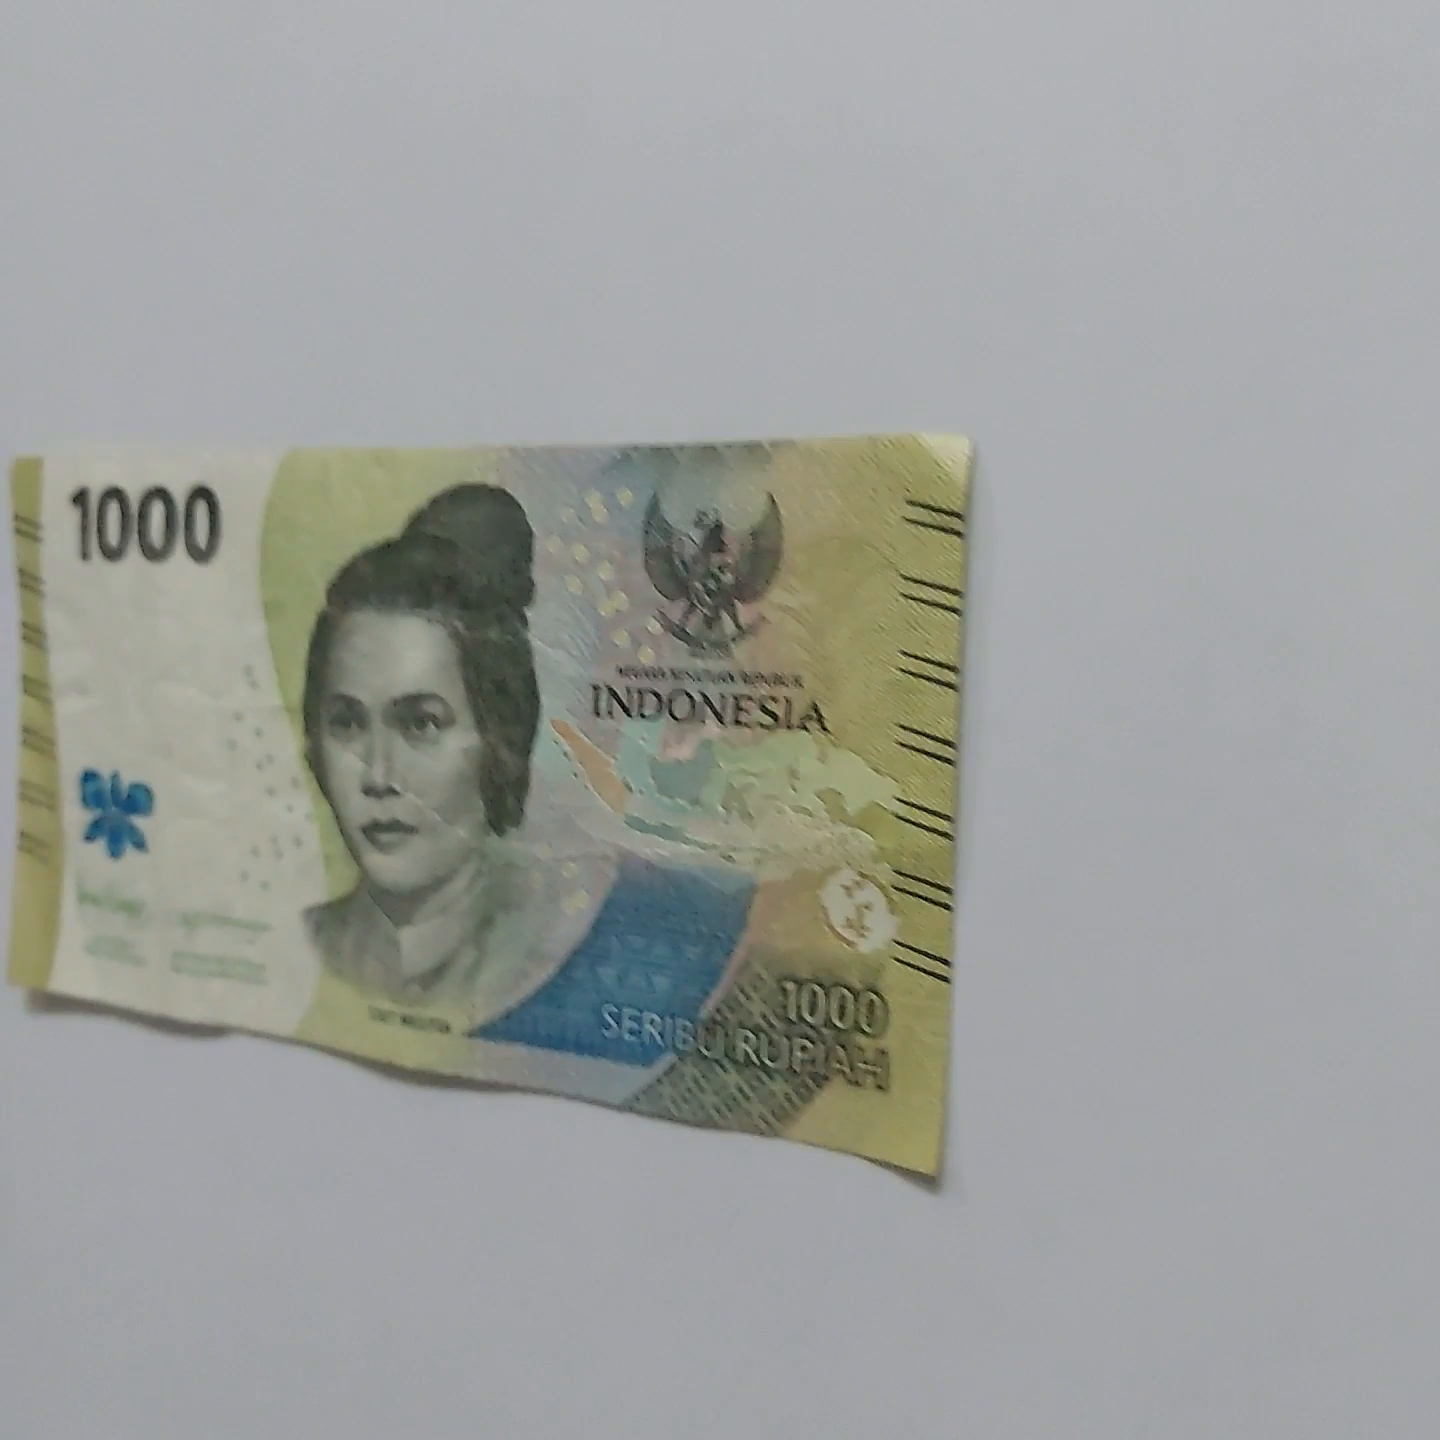1k: (0, 426, 1009, 1209)
